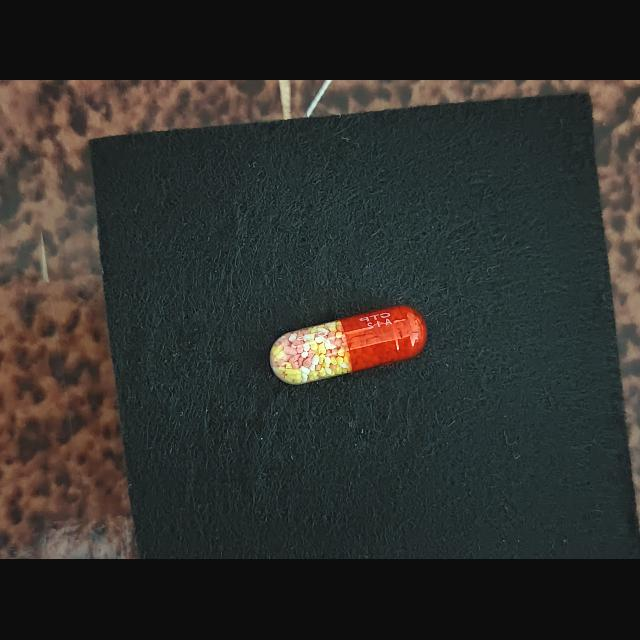Intact Capsule: (270, 306, 427, 385)
